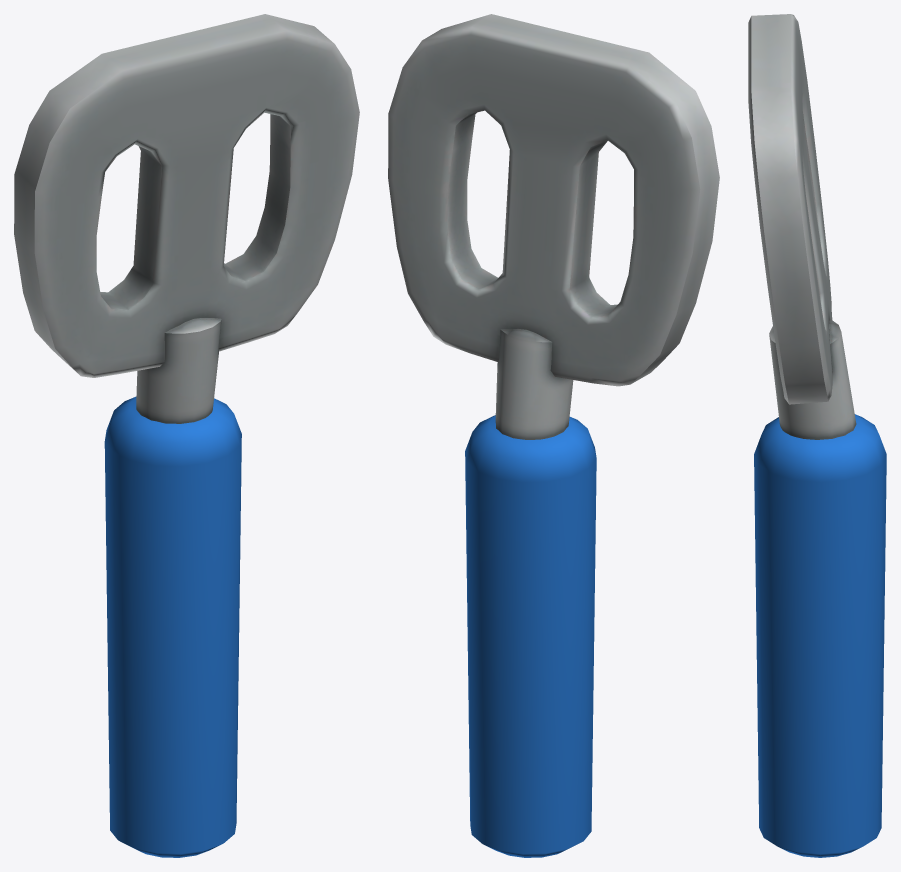
File: 0-spatula_blue.fbx
The picture shows the model from 3 angles, left to right: view 1: azimuth 30°, elevation 25°; view 2: azimuth 150°, elevation 25°; view 3: azimuth 270°, elevation 25°; orthographic projection. The views are drawn at different scales.
Visible parts, largest first — view 1: 0-spatula_blue; view 2: 0-spatula_blue; view 3: 0-spatula_blue.
Part boxes in pixels (x1=…): 0-spatula_blue: x1=14, y1=14, x2=359, y2=857; 0-spatula_blue: x1=388, y1=14, x2=719, y2=857; 0-spatula_blue: x1=748, y1=14, x2=886, y2=857.
Bounding box in the file's own units: 41.37 × 99.55 × 15.92.
